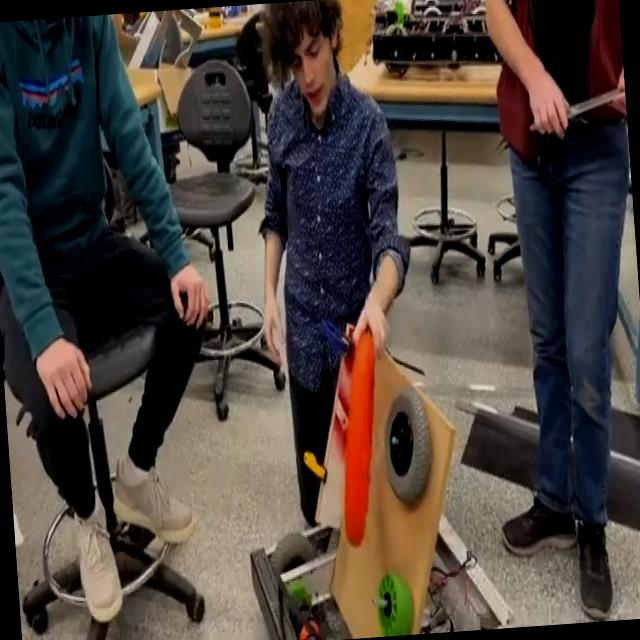note: (328, 315, 392, 551)
